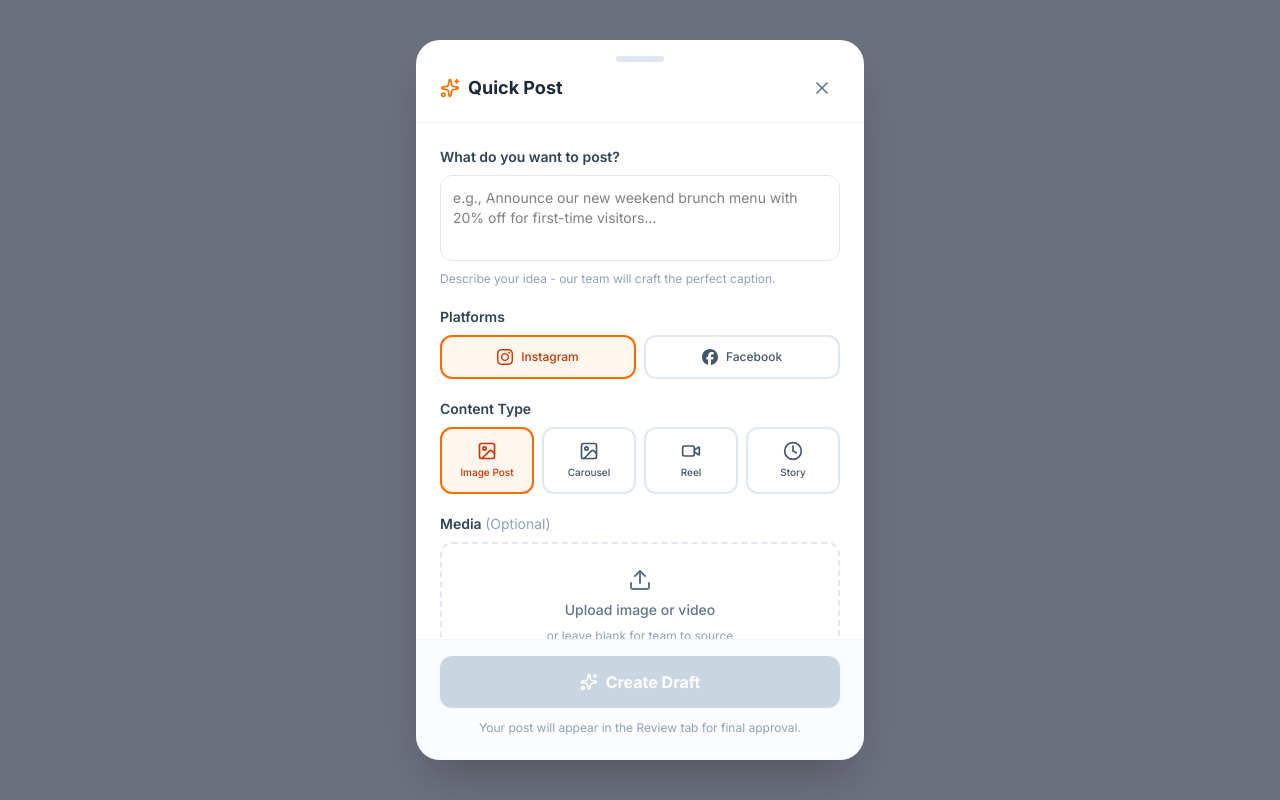
Scenario: AdhocPostModal Component › Form Submission › should show loading state while submitting
This screenshot has width=1280, height=800.
// Enter concept
Replace the text in the text box with test id "concept-input" with "Test post". click: (640, 218)
box: [440,175,840,261]
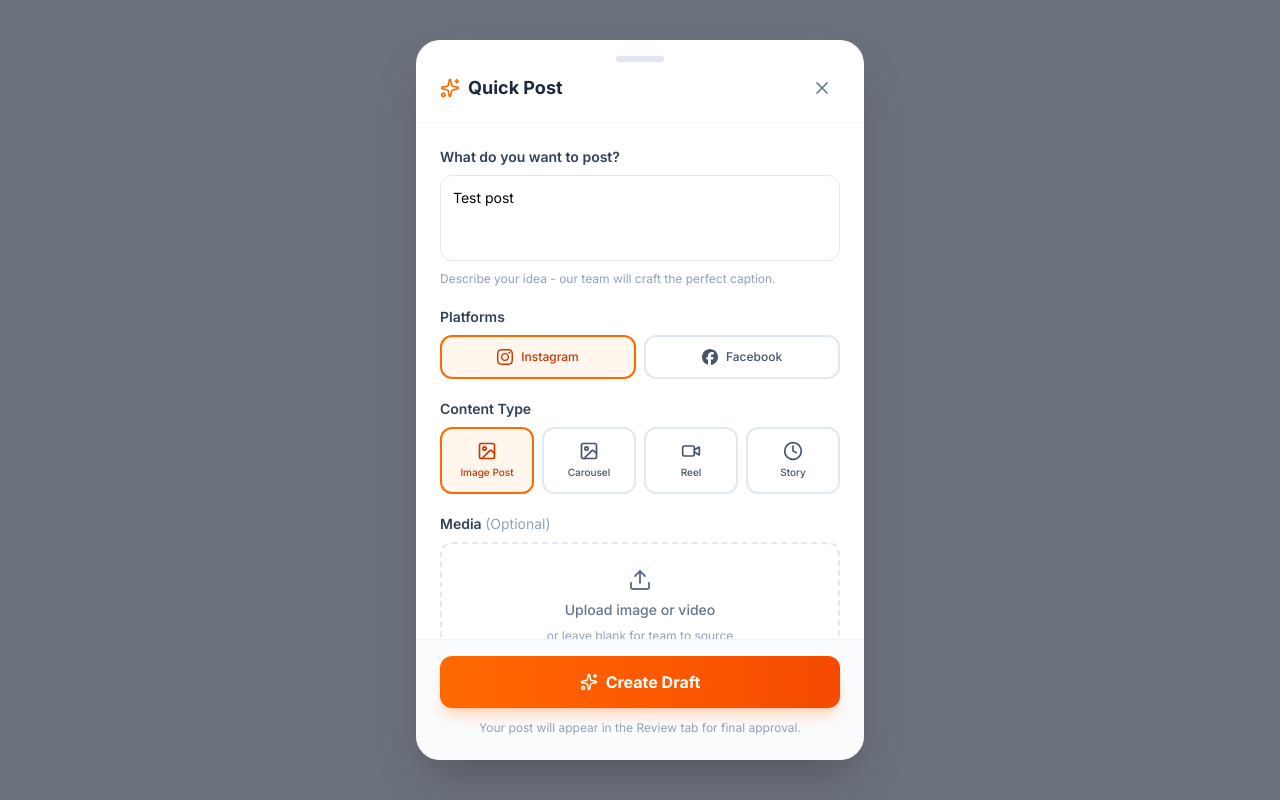
Click the button with test id "submit-button". click: (640, 682)
box: [440,656,840,708]
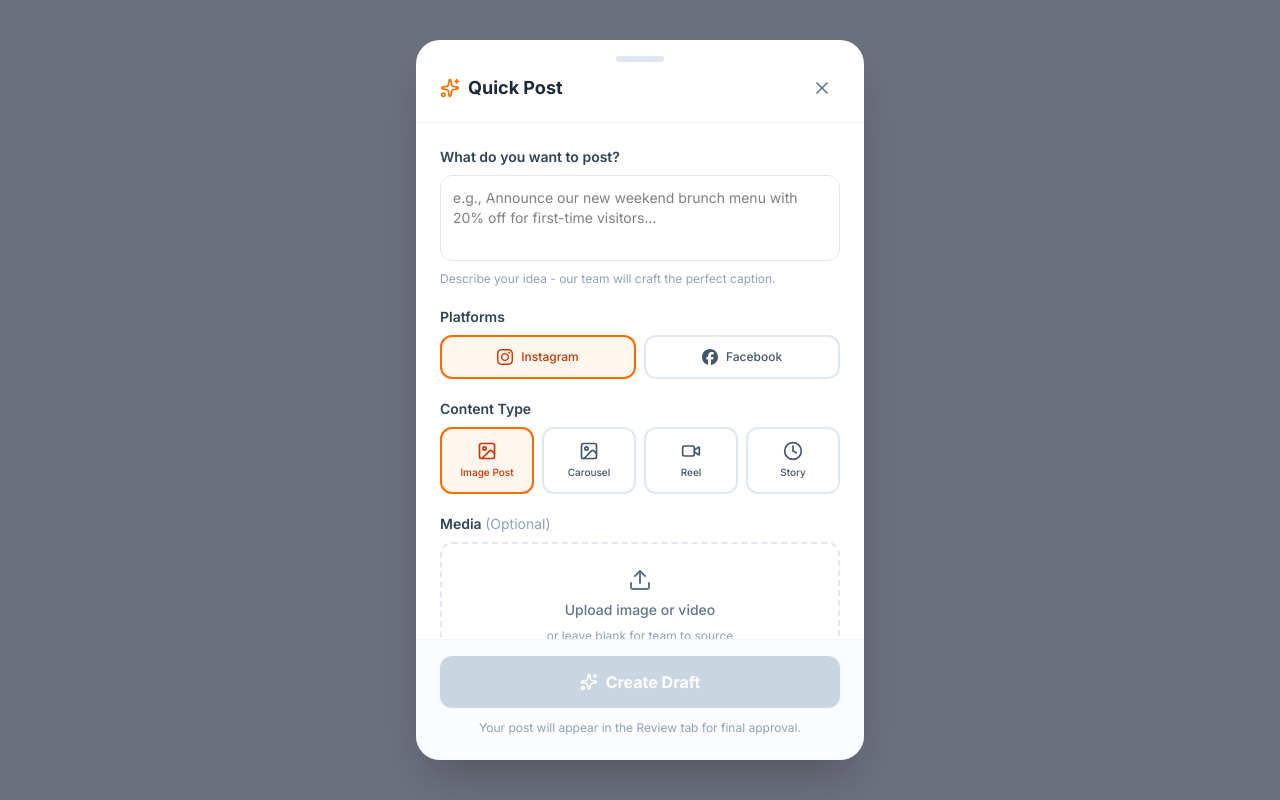
Now the button with test id "submit-button" is disabled, box [440,656,840,708]
